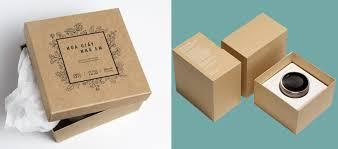box: (19, 7, 153, 143), (253, 51, 336, 135), (171, 32, 241, 123), (221, 13, 287, 97)
